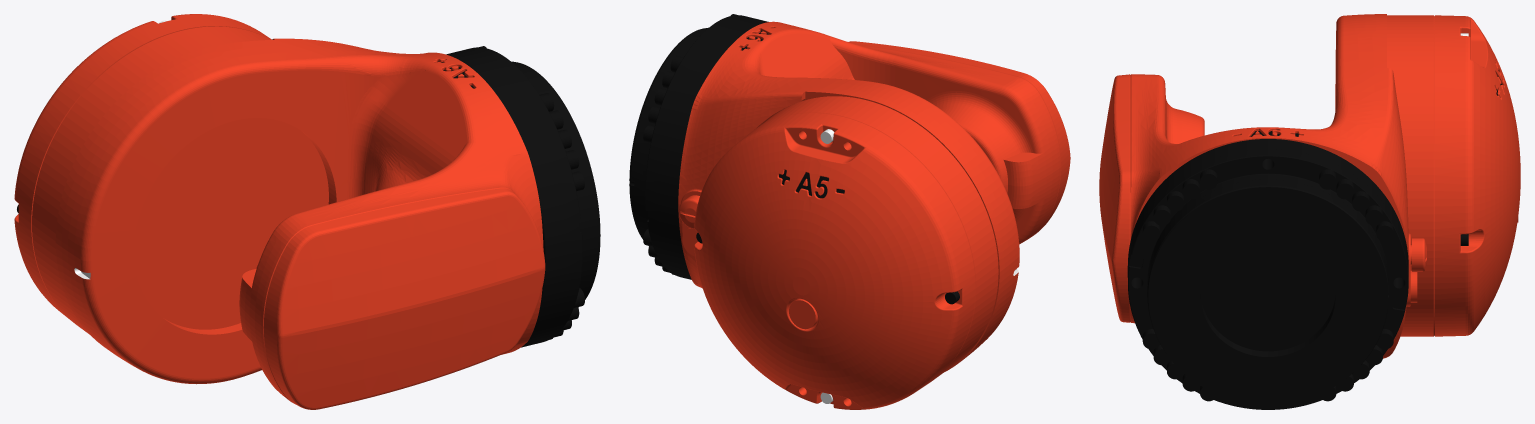
3 renders of one model, left to right at view 1: azimuth 30°, elevation 25°; view 2: azimuth 150°, elevation 25°; view 3: azimuth 270°, elevation 25°, orthographic. The views are drawn at different scales.
Parts seen in each view (by area): view 1: link_5; view 2: link_5; view 3: link_5.
Boxes of the visible parts, x1,y1,x2,y2 form: link_5: (14, 14, 600, 409); link_5: (629, 14, 1070, 409); link_5: (1099, 14, 1520, 409).
Bounding box in the file's own units: 0.3302 × 0.3119 × 0.24.
